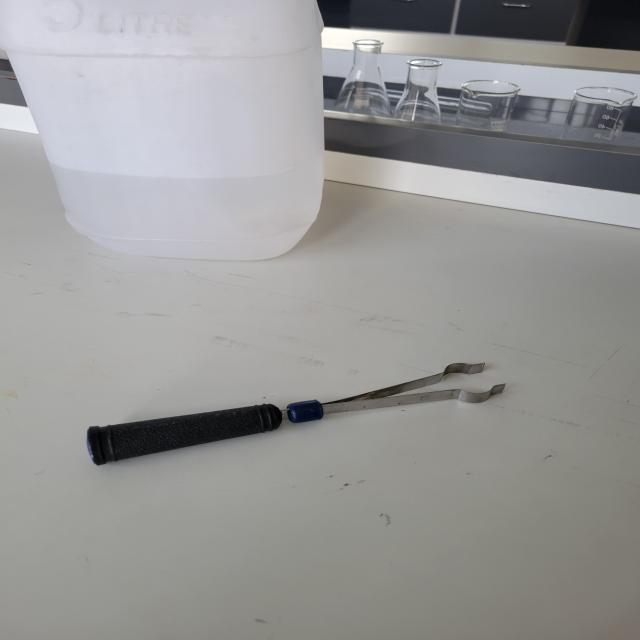TestTube_Holder: (64, 334, 516, 512)
